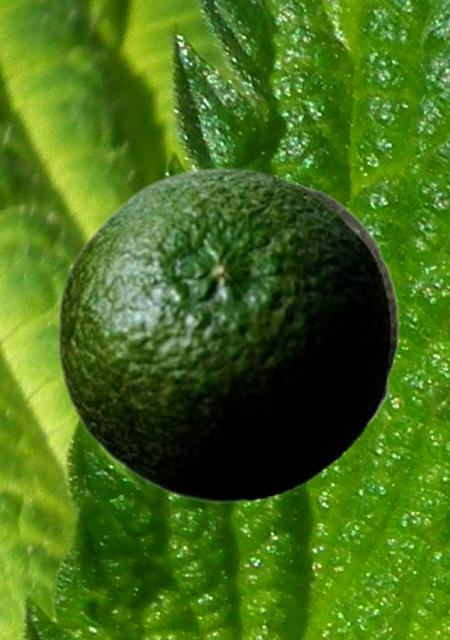calamansi: (56, 166, 391, 503), (285, 177, 399, 428)
